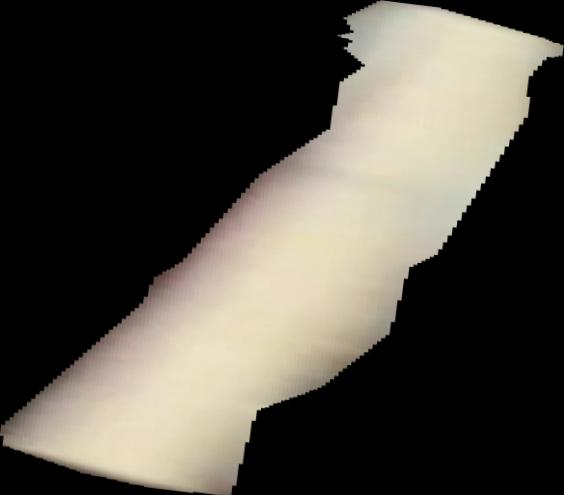backward: (1, 1, 564, 495)
